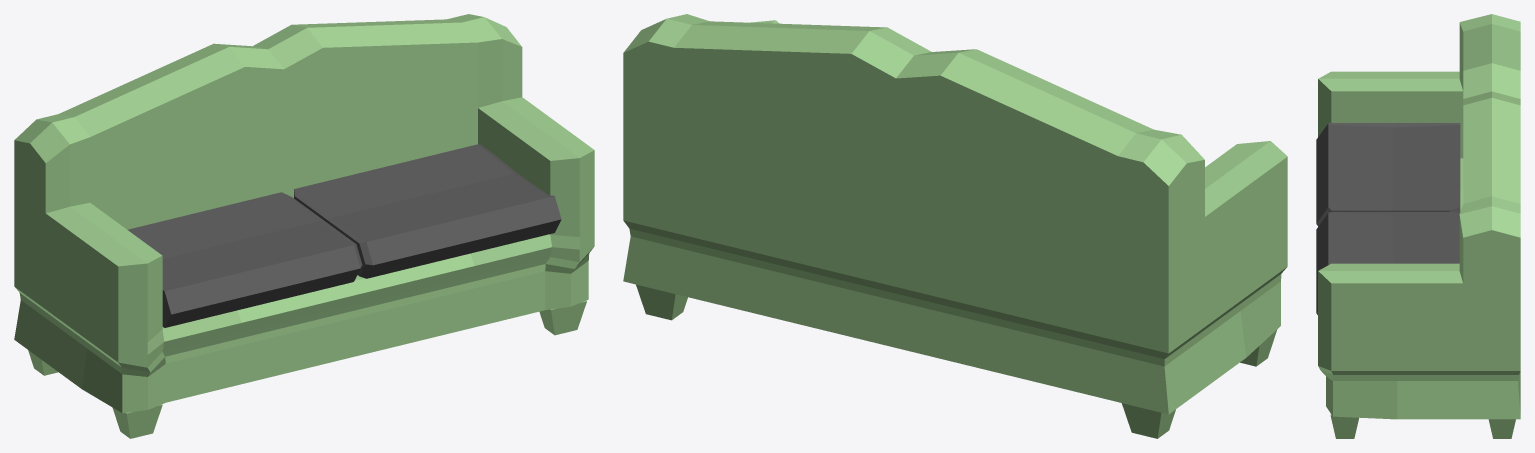
The model's file is Couch.fbx.
3 renders of one model, left to right at view 1: azimuth 30°, elevation 25°; view 2: azimuth 150°, elevation 25°; view 3: azimuth 270°, elevation 25°, orthographic. The views are drawn at different scales.
Parts seen in each view (by area): view 1: Couch; view 2: Couch; view 3: Couch.
Boxes of the visible parts, x1,y1,x2,y2 form: Couch: (14,14,594,438); Couch: (623,14,1287,438); Couch: (1316,14,1520,438).
Size of the model in its own units: 580 by 331 by 236.
